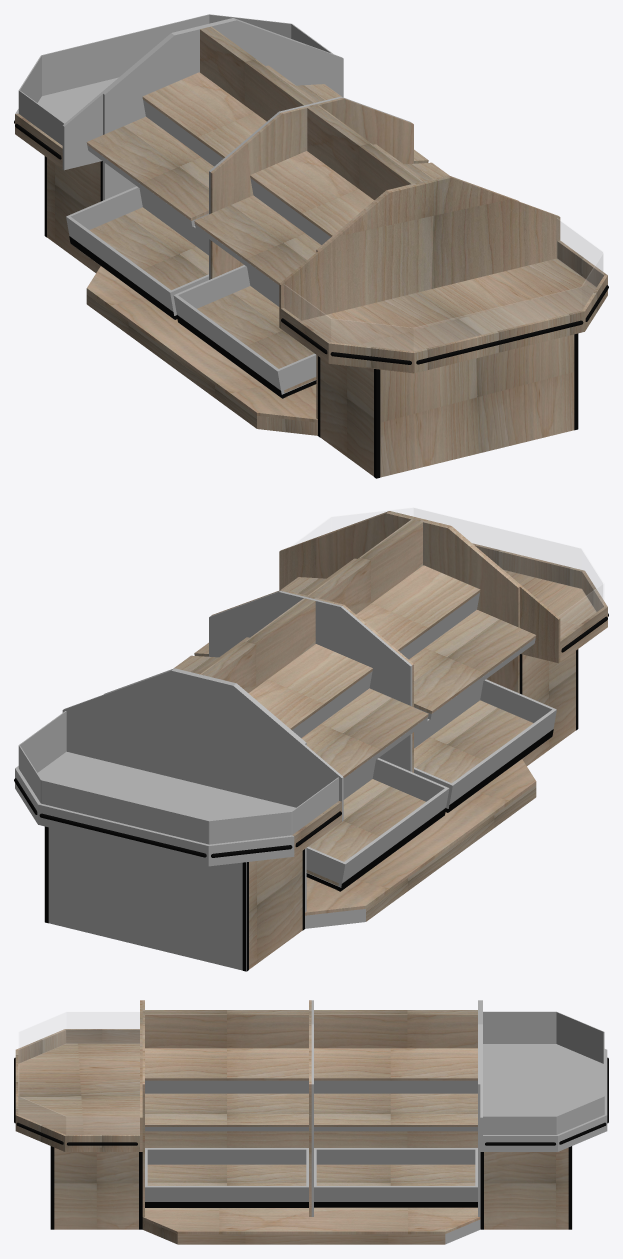
The model's file is angled_sides_revised_3d_model.glb.
3 renders of one model, top to bottom at view 1: azimuth 30°, elevation 25°; view 2: azimuth 150°, elevation 25°; view 3: azimuth 270°, elevation 25°, orthographic. The views are drawn at different scales.
Visible parts, largest first — view 1: angled sides revised; view 2: angled sides revised; view 3: angled sides revised.
Boxes of the visible parts, x1,y1,x2,y2 form: angled sides revised: (14, 14, 608, 478); angled sides revised: (14, 508, 608, 971); angled sides revised: (14, 1000, 608, 1244).
Size of the model in its own units: 1.85 by 1.42 by 4.29.
Materials: 25 (21 with a texture image).
